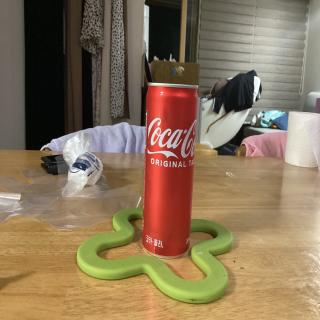cocacola: (138, 78, 200, 260)
